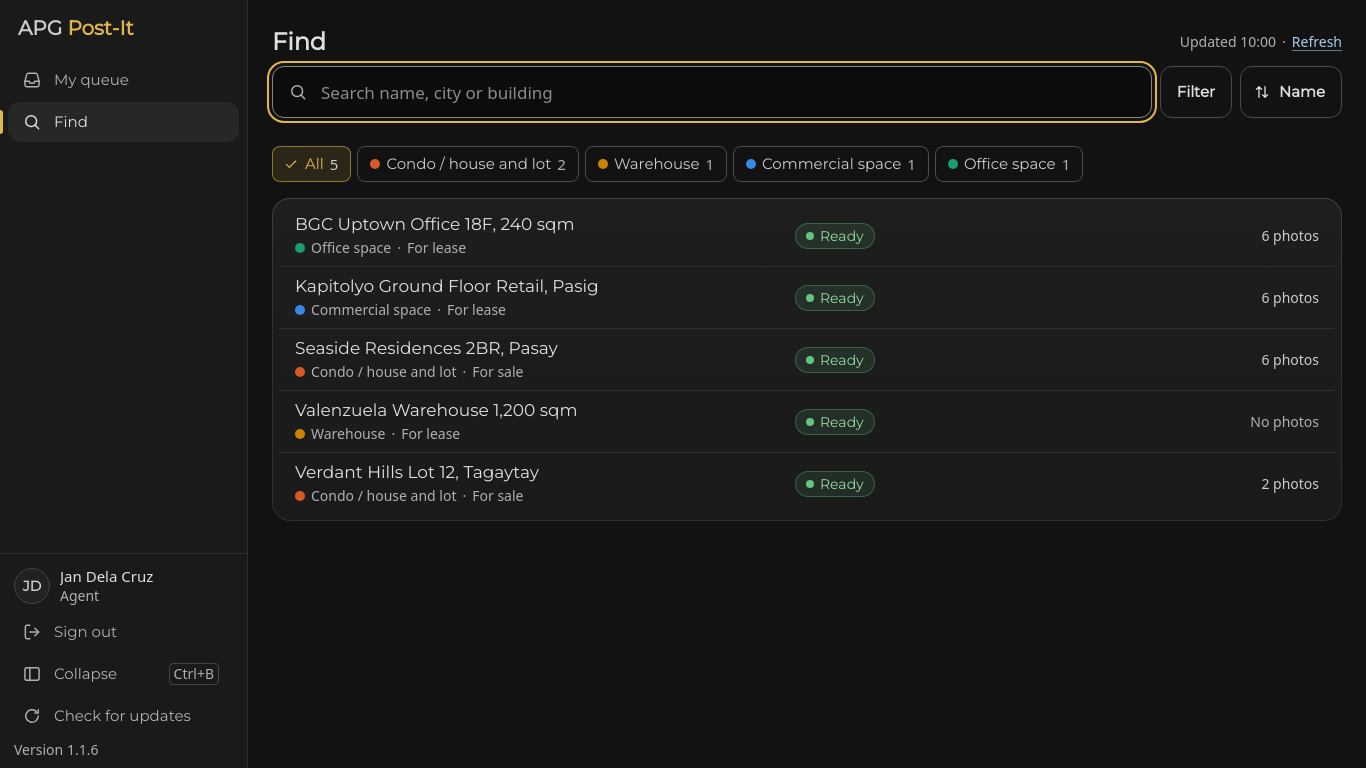
Test: Check for updates › offers a newer version at once, with Restart and update
This screenshot has width=1366, height=768.
Click the button "Check for updates" at (124, 716), box [8,696,239,736]
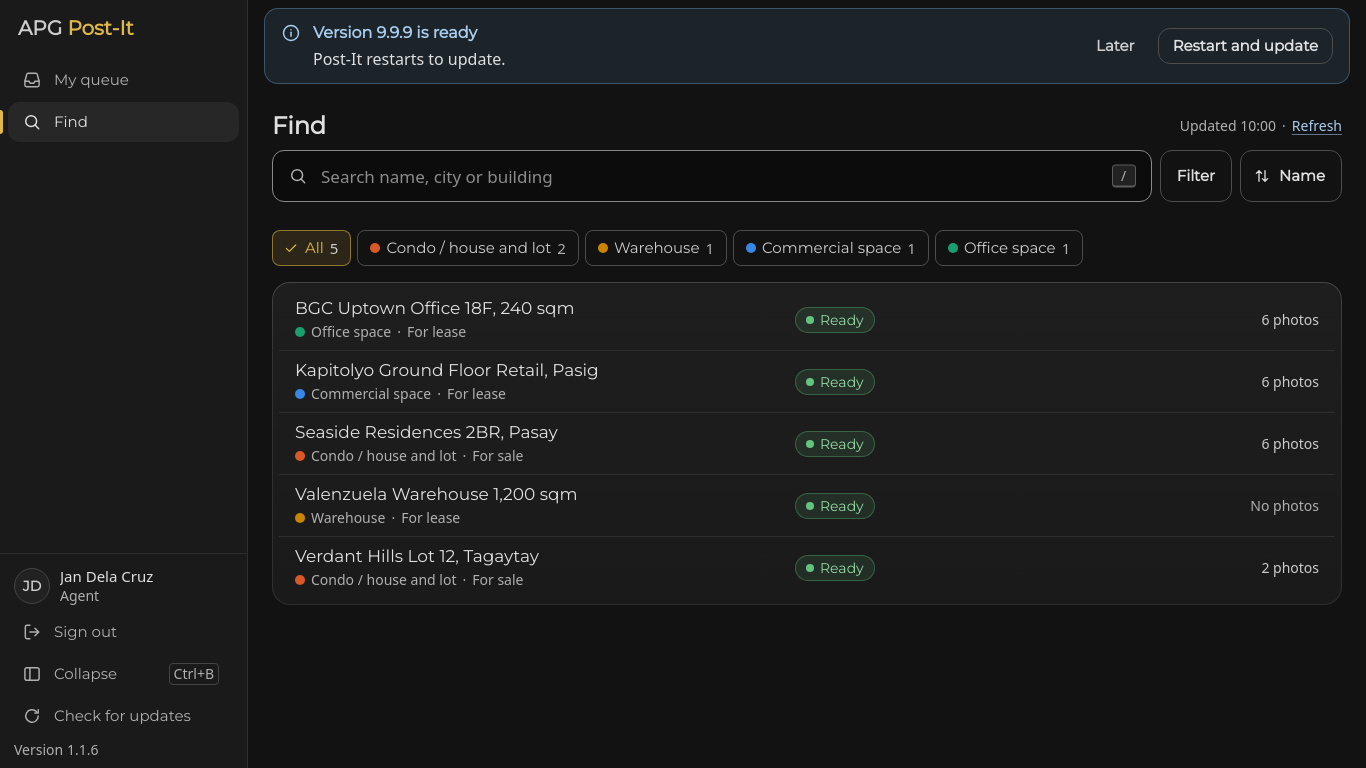
Check: the text "Version 9.9.9 is ready" is shown, box [313,23,477,42]
Check: the button "Restart and update" is shown, box [1158,28,1333,64]
